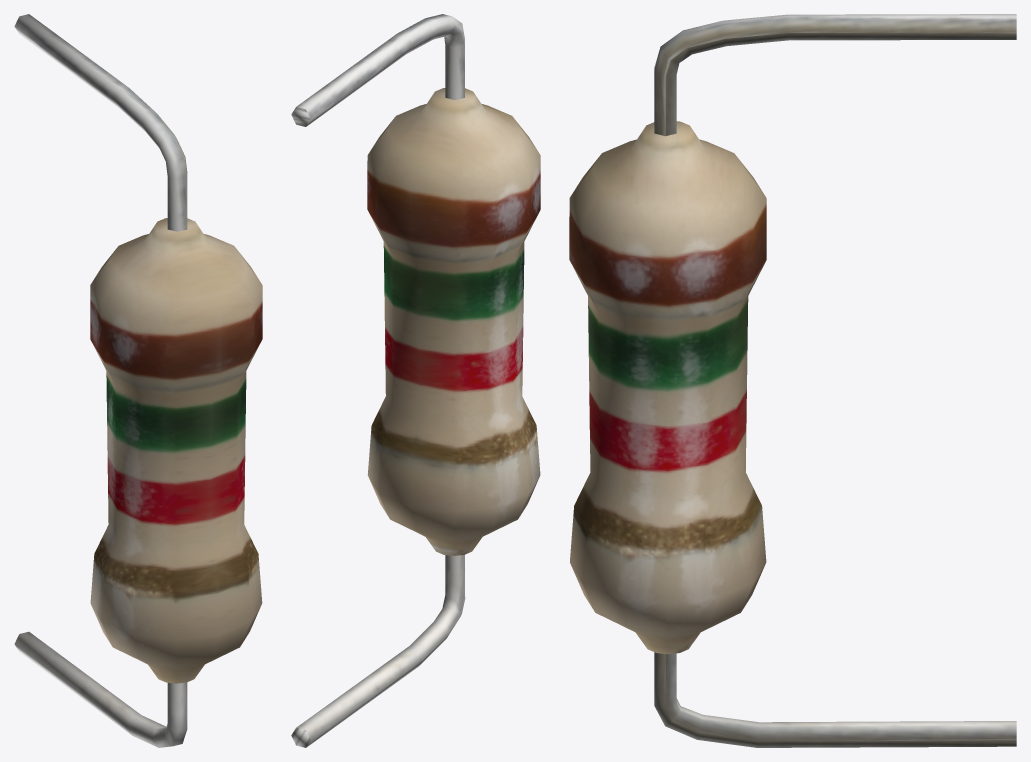
The model's file is resistor.fbx.
3 renders of one model, left to right at view 1: azimuth 30°, elevation 25°; view 2: azimuth 150°, elevation 25°; view 3: azimuth 270°, elevation 25°, orthographic. The views are drawn at different scales.
Parts seen in each view (by area): view 1: resistor; view 2: resistor; view 3: resistor.
Part boxes in pixels (x1=…): resistor: x1=14, y1=14, x2=262, y2=747; resistor: x1=291, y1=14, x2=540, y2=747; resistor: x1=569, y1=14, x2=1016, y2=747.
Size of the model in its own units: 28.48 by 116 by 64.55.
